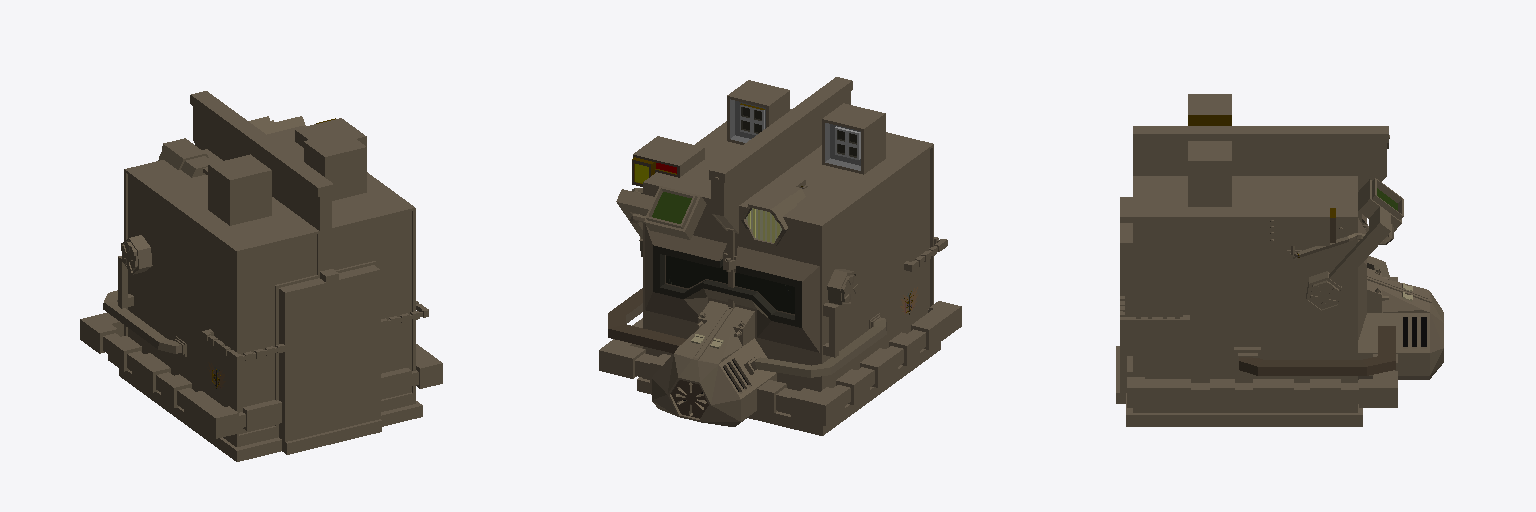
File: t45head.obj
The picture shows the model from 3 angles: view 1: azimuth 30°, elevation 25°; view 2: azimuth 150°, elevation 25°; view 3: azimuth 270°, elevation 25°; orthographic projection.
Size of the model in its own units: 1.24 by 1.28 by 1.51.